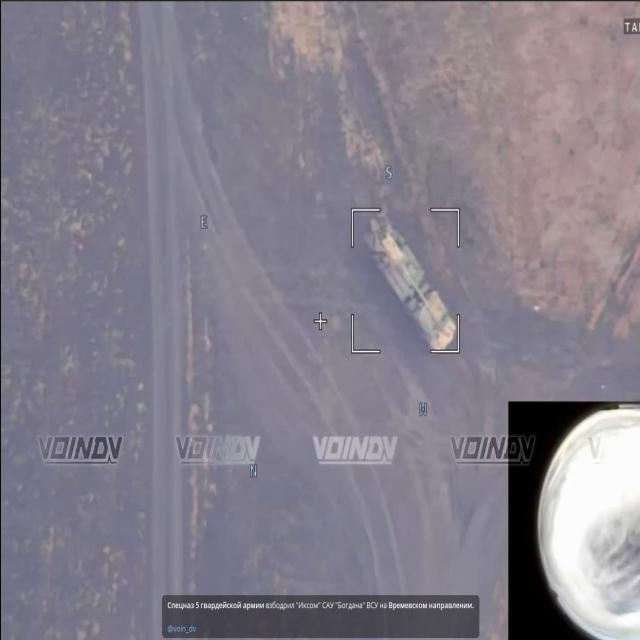vehicle: (340, 208, 473, 361)
